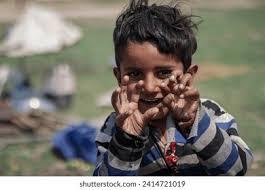Human: (87, 0, 254, 182)
